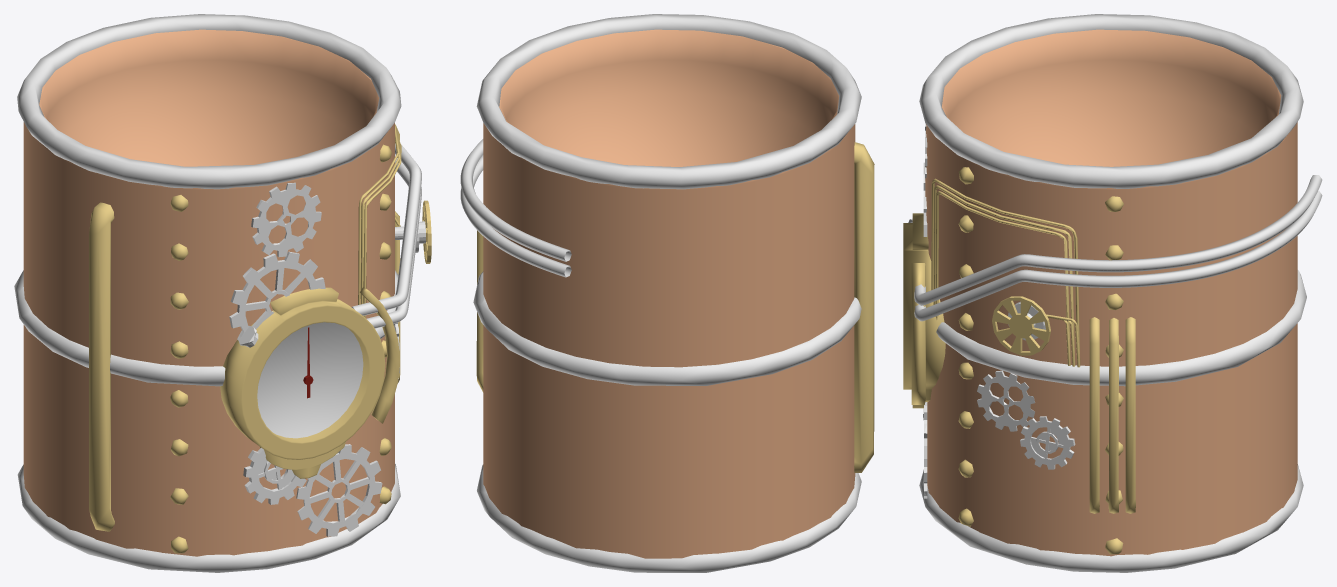
File: Socket.gltf
3 renders of one model, left to right at view 1: azimuth 30°, elevation 25°; view 2: azimuth 150°, elevation 25°; view 3: azimuth 270°, elevation 25°, orthographic.
Visible parts, largest first — view 1: Cylinder, Cylinder.001, BezierCircle.002, NurbsPath.005, BezierCircle.001, BezierCircle, 2.001, Sphere, 2, gear 3, NurbsPath, 1.001 (+3 smaller); view 2: Cylinder, BezierCircle.002, BezierCircle, BezierCircle.001, NurbsPath.005, NurbsPath, NurbsPath.007, side.002; view 3: Cylinder, BezierCircle.002, BezierCircle, BezierCircle.001, NurbsPath, NurbsPath.007, Cylinder.001, NurbsPath.006, Sphere, Cylinder.002, side.002, side.001 (+3 smaller).
Boxes of the visible parts, x1,y1,x2,y2 form: Cylinder: (23,29,394,556); Cylinder.001: (220,287,399,478); BezierCircle.002: (17,14,401,189); NurbsPath.005: (89,202,114,531); BezierCircle.001: (17,464,400,572); BezierCircle: (14,270,398,386); 2.001: (296,444,382,536); Sphere: (170,144,391,553); 2: (229,251,325,340); gear 3: (251,182,321,257); NurbsPath: (351,143,421,315); 1.001: (243,448,306,504); Cylinder: (483,29,855,558); BezierCircle.002: (476,14,861,189); BezierCircle: (473,271,861,385); BezierCircle.001: (477,464,861,572); NurbsPath.005: (854,142,874,472); NurbsPath: (460,139,571,261); NurbsPath.007: (460,155,571,277); side.002: (476,230,483,392); Cylinder: (925,29,1297,556); BezierCircle.002: (919,14,1303,188); BezierCircle: (936,270,1306,386); BezierCircle.001: (919,464,1303,572); NurbsPath: (914,175,1322,305); NurbsPath.007: (914,190,1322,321); Cylinder.001: (903,213,945,408); NurbsPath.006: (931,178,1080,367); Sphere: (958,167,1123,554); Cylinder.002: (992,296,1050,355); side.002: (1125,317,1135,513); side.001: (1089,317,1099,513).
Bounding box in the file's own units: 2.2 × 2.38 × 2.25.
